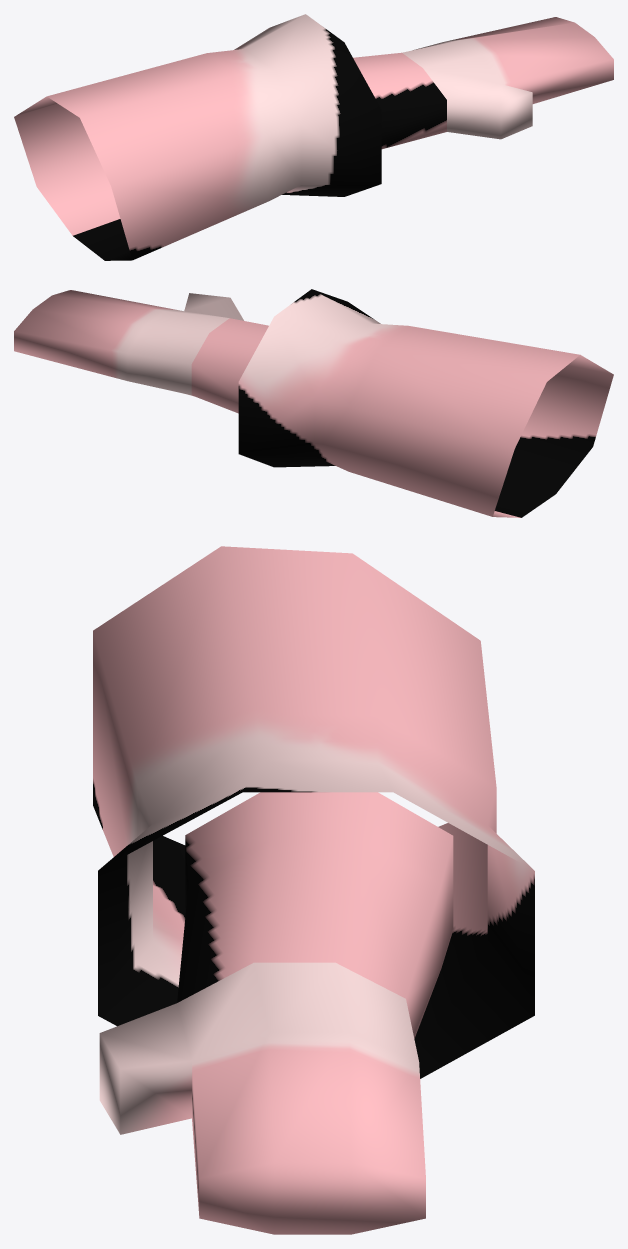
The model's file is arm_L.obj.
The picture shows the model from 3 angles, top to bottom: view 1: azimuth 30°, elevation 25°; view 2: azimuth 150°, elevation 25°; view 3: azimuth 270°, elevation 25°; orthographic projection. The views are drawn at different scales.
Parts seen in each view (by area): view 1: arm_L; view 2: arm_L; view 3: arm_L.
Part boxes in pixels (<box>): arm_L: <box>14,14,613,260</box>; arm_L: <box>14,289,613,517</box>; arm_L: <box>93,546,534,1234</box>.
Bounding box in the file's own units: 0.6182 × 0.1724 × 0.2289.
1 material, 1 textured.
